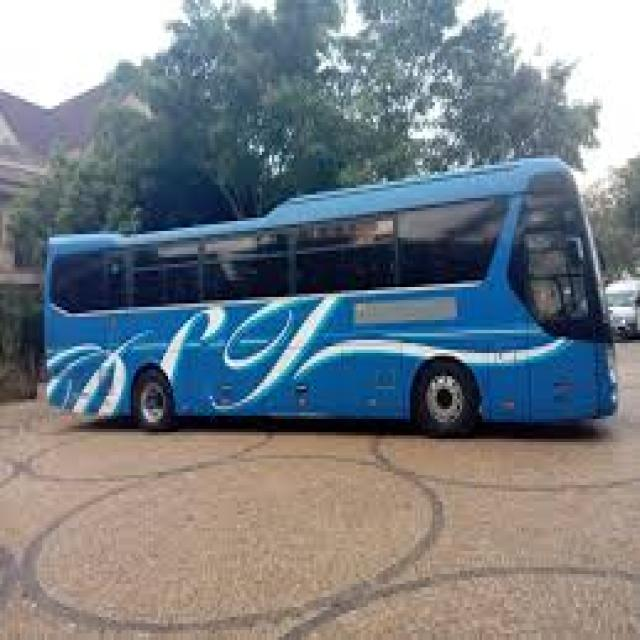bus: (12, 101, 623, 458)
